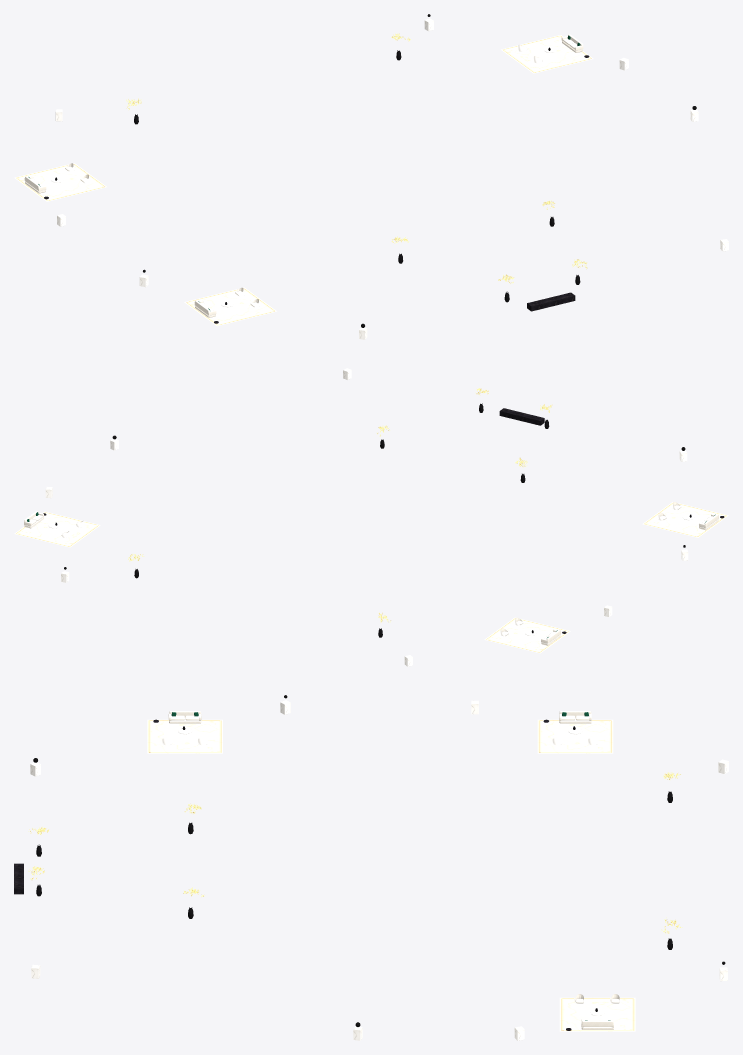
Rendered from tb_decor3_p2.glb.
The picture shows the model from 3 angles, top to bottom: view 1: azimuth 30°, elevation 25°; view 2: azimuth 150°, elevation 25°; view 3: azimuth 270°, elevation 25°; orthographic projection. The views are drawn at different scales.
Parts seen in each view (by area): view 1: tb_decor_p2; view 2: tb_decor_p2; view 3: tb_decor_p2.
Boxes of the visible parts, left/top/right/bottom form: tb_decor_p2: left=14, top=14, right=728, bottom=339; tb_decor_p2: left=14, top=368, right=728, bottom=666; tb_decor_p2: left=14, top=695, right=728, bottom=1040.
Bounding box in the file's own units: 70.12 × 3.5 × 64.12.
10 materials, 6 textured.
